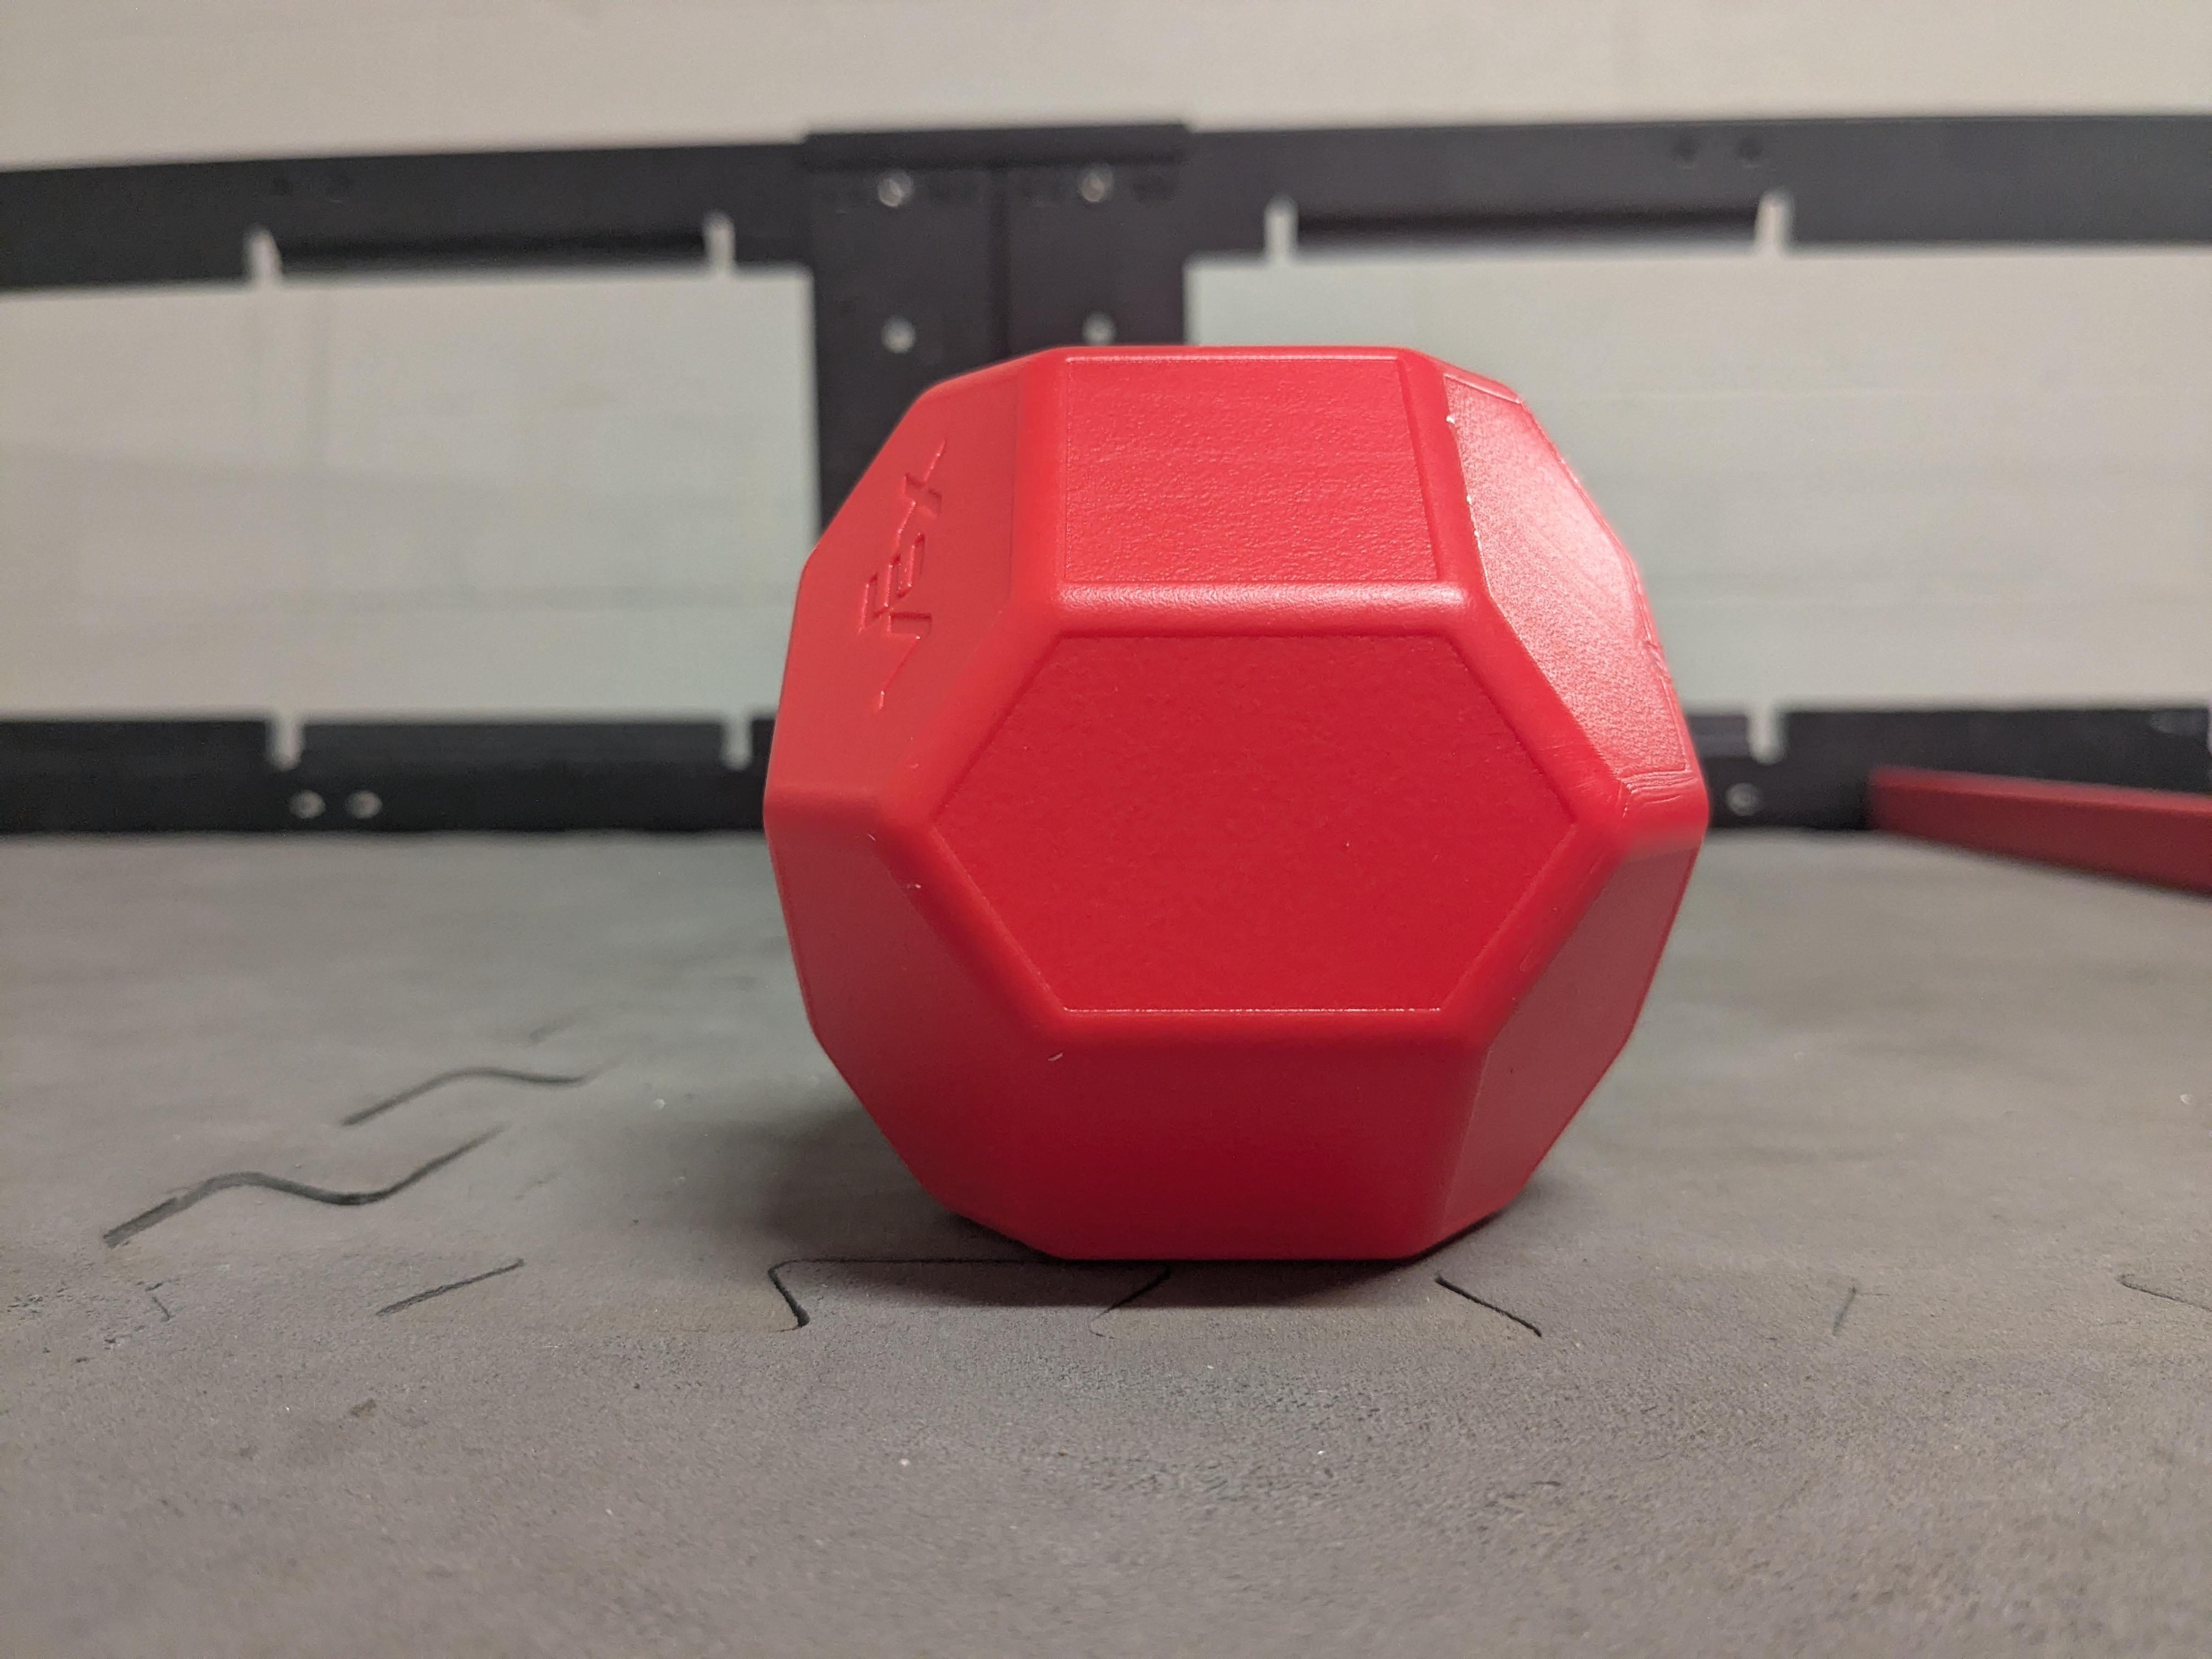Vex-Pieces-RED: (766, 347, 1705, 1258)
